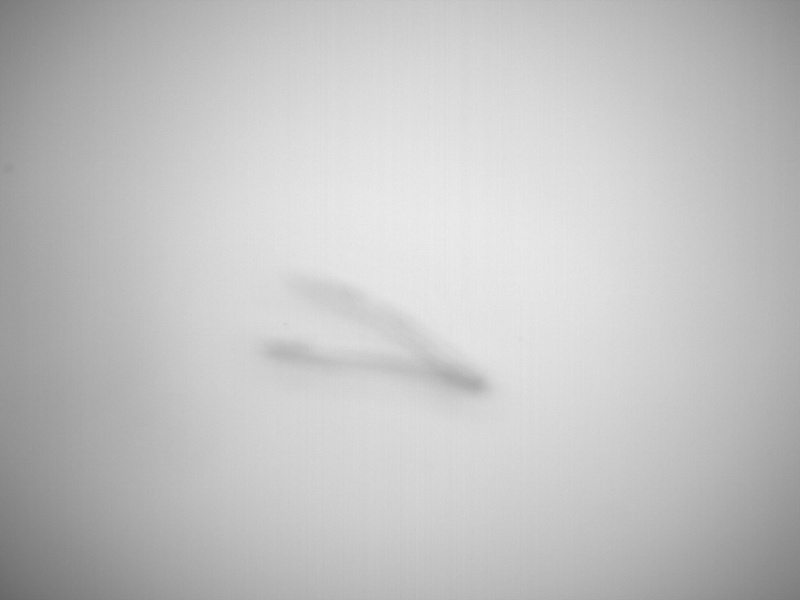fiber: (283, 264, 505, 392), (262, 334, 488, 392)
